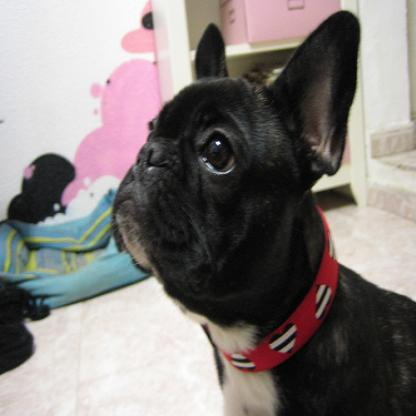French_bulldog: (109, 10, 414, 414)
